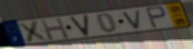0: (96, 12, 120, 34)
H: (39, 16, 72, 41)
P: (144, 5, 168, 29)
V: (68, 13, 91, 37), (121, 8, 143, 30)
X: (16, 19, 51, 44)
